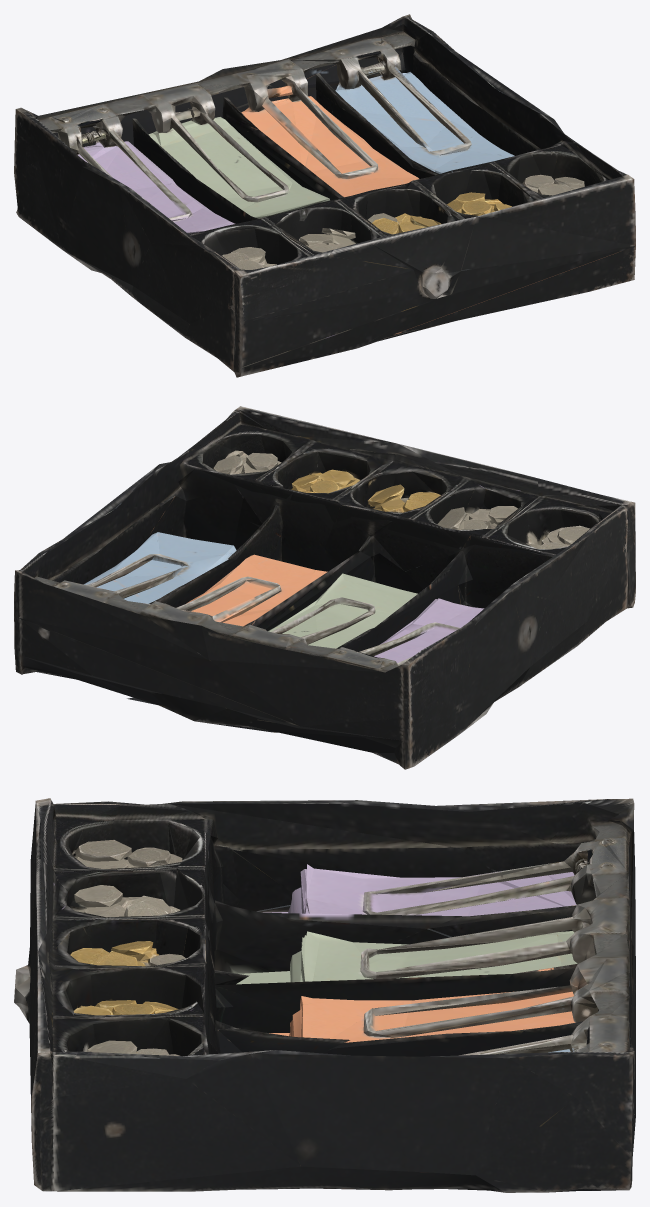
File: remeshed-till.glb
The picture shows the model from 3 angles, top to bottom: view 1: azimuth 30°, elevation 25°; view 2: azimuth 150°, elevation 25°; view 3: azimuth 270°, elevation 25°; orthographic projection. The views are drawn at different scales.
Parts seen in each view (by area): view 1: output_unwrapped; view 2: output_unwrapped; view 3: output_unwrapped.
Boxes of the visible parts, x1=… form: output_unwrapped: x1=14, y1=14, x2=635, y2=377; output_unwrapped: x1=14, y1=406, x2=635, y2=769; output_unwrapped: x1=14, y1=798, x2=635, y2=1192.
Size of the model in its own units: 1.87 by 0.4825 by 1.9.
1 material, 1 textured.
